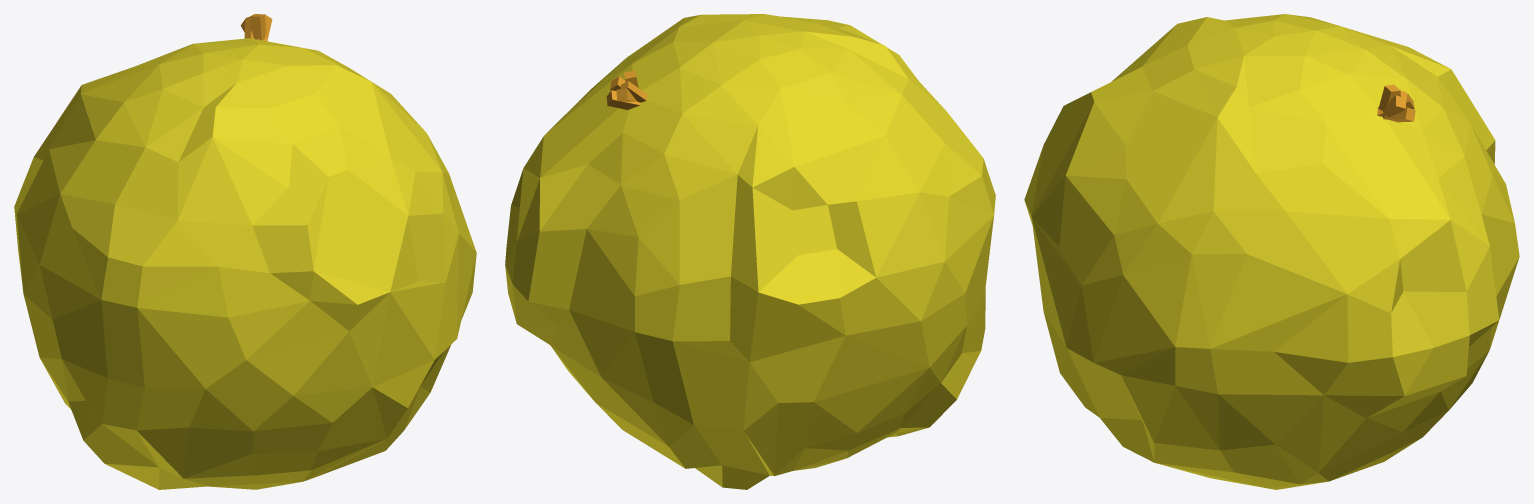
The model's file is potato.fbx.
3 views of the same model, side by side, from view 1: azimuth 30°, elevation 25°; view 2: azimuth 150°, elevation 25°; view 3: azimuth 270°, elevation 25° (orthographic). The views are drawn at different scales.
Parts seen in each view (by area): view 1: Sphere; view 2: Sphere; view 3: Sphere.
Boxes of the visible parts, left/top/right/bottom form: Sphere: left=14, top=38, right=476, bottom=489; Sphere: left=505, top=14, right=995, bottom=489; Sphere: left=1024, top=14, right=1519, bottom=489.
Bounding box in the file's own units: 296 × 291 × 304.
